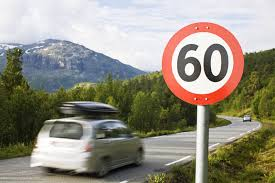sp60: (163, 29, 248, 100)
